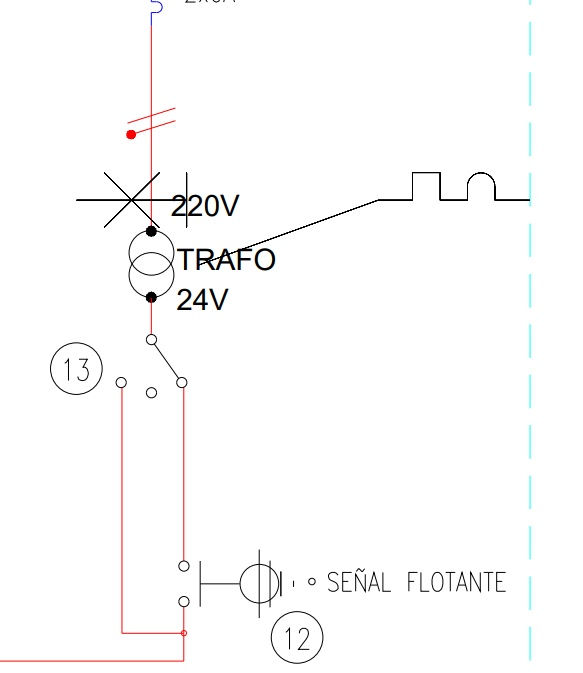interruptor_termomagnetico: (65, 161, 541, 277)
